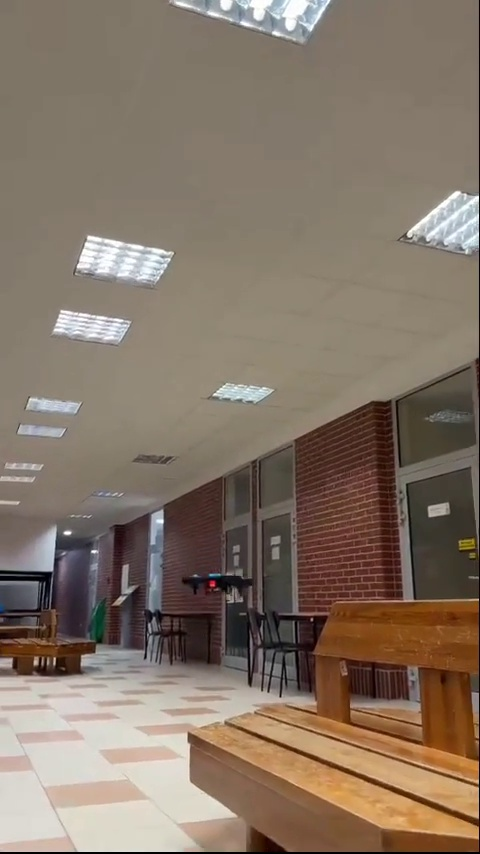drone: (180, 568, 253, 602)
